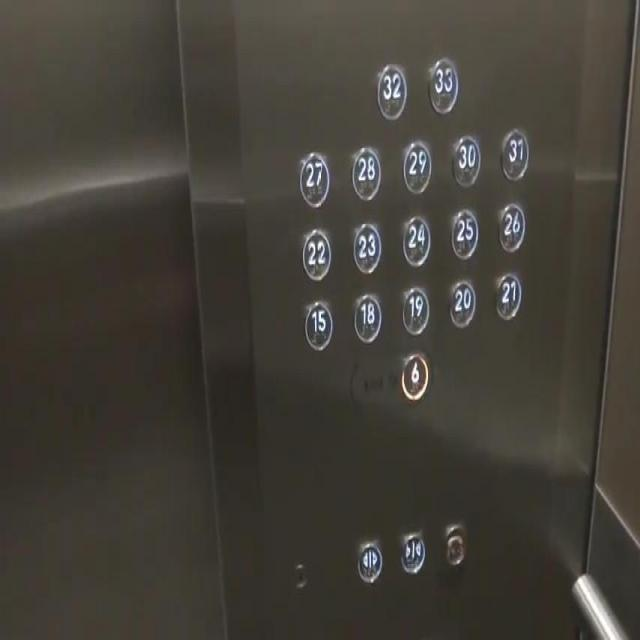15: (302, 291, 335, 352)
18: (351, 288, 382, 345)
19: (400, 276, 433, 337)
20: (446, 271, 479, 332)
21: (491, 268, 522, 324)
22: (300, 221, 333, 283)
23: (349, 216, 382, 277)
24: (400, 209, 432, 271)
25: (448, 200, 481, 261)
26: (494, 195, 528, 256)
27: (297, 145, 330, 207)
28: (349, 143, 382, 204)
29: (400, 133, 433, 195)
30: (450, 131, 482, 192)
31: (498, 121, 532, 183)
32: (374, 60, 408, 121)
33: (426, 53, 458, 115)
6: (397, 343, 430, 404)
close: (396, 522, 426, 578)
keyhole: (440, 518, 468, 570), (290, 554, 309, 590)
open: (352, 529, 385, 591)
